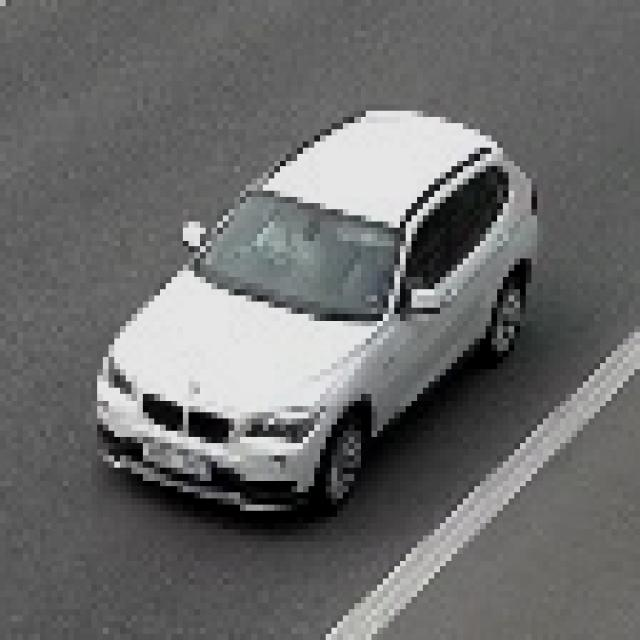SUV: (107, 114, 515, 482)
